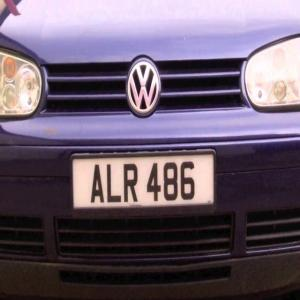Plate: (72, 150, 215, 208)
